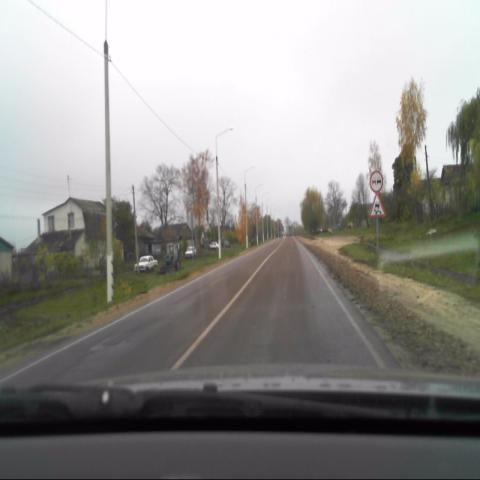1_15: (368, 196, 385, 218)
